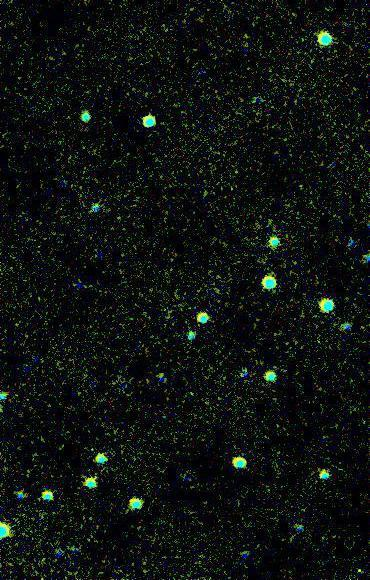star: (345, 555, 370, 580)
